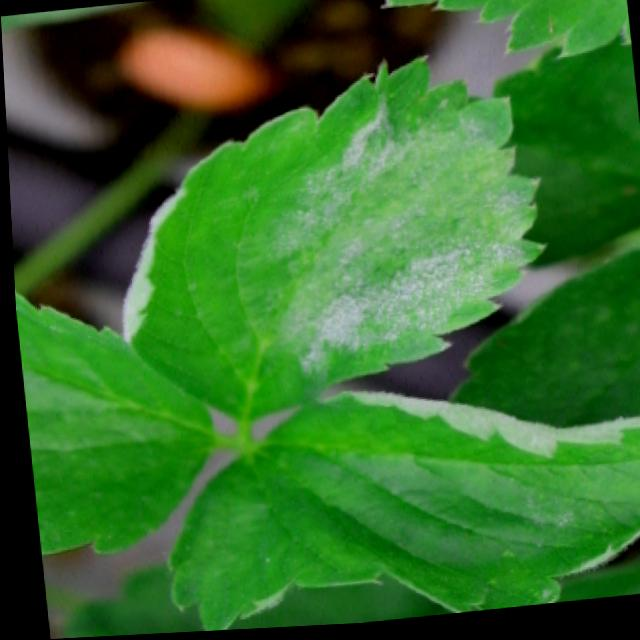Powdery Mildew Leaf: (117, 58, 543, 423), (159, 391, 640, 633), (12, 292, 212, 557)
